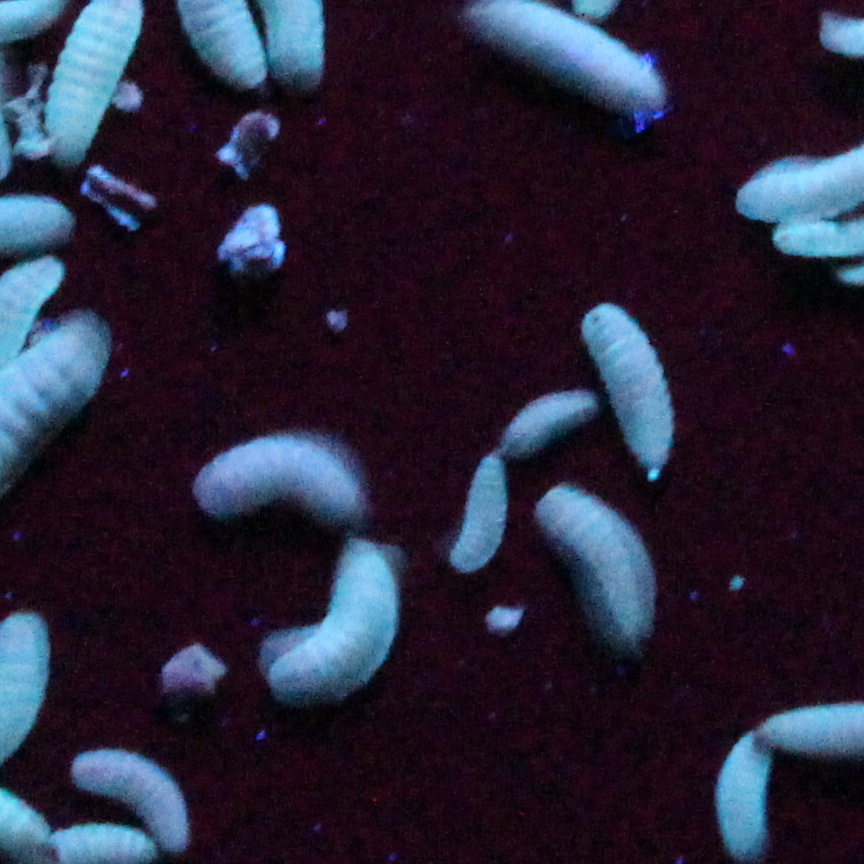larve: (180, 426, 374, 533), (274, 540, 394, 706), (534, 506, 660, 646), (574, 306, 674, 473), (67, 752, 194, 849), (486, 374, 597, 462), (454, 451, 503, 593)
